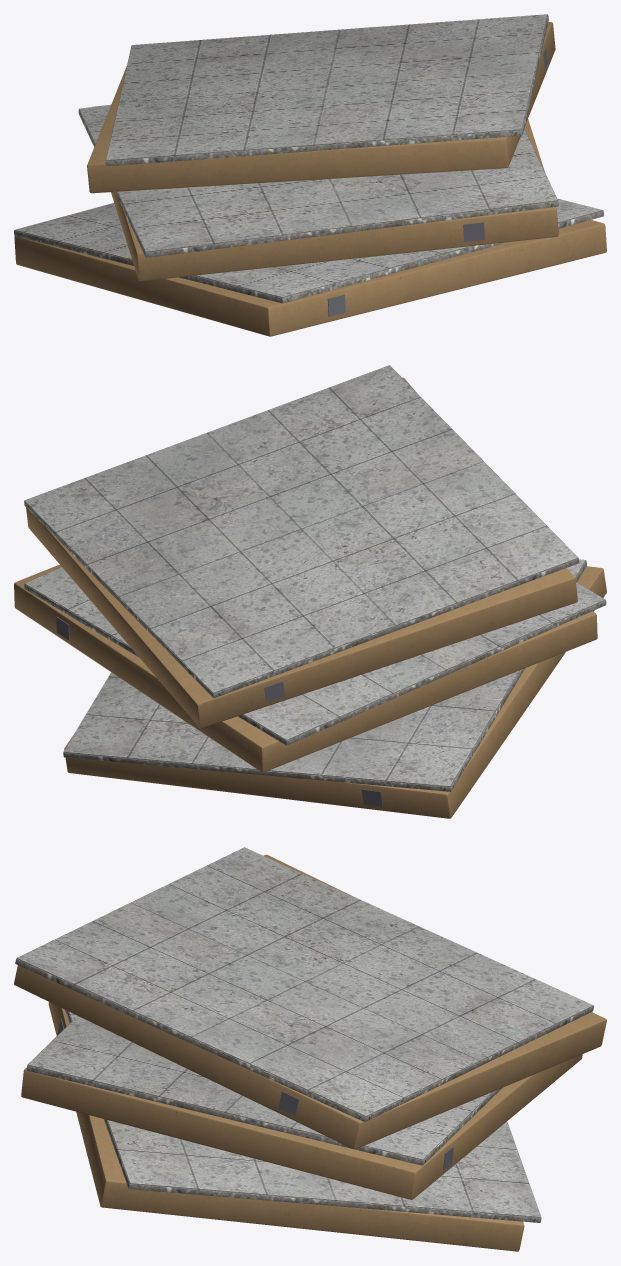
The model's file is PIS-CER-003_anim.glb.
3 renders of one model, top to bottom at view 1: azimuth 30°, elevation 25°; view 2: azimuth 150°, elevation 25°; view 3: azimuth 270°, elevation 25°, orthographic. The views are drawn at different scales.
Visible parts, largest first — view 1: PIS-CER-003_anim2, PIS-CER-003_anim1, PIS-CER-003_anim0; view 2: PIS-CER-003_anim2, PIS-CER-003_anim0, PIS-CER-003_anim1; view 3: PIS-CER-003_anim2, PIS-CER-003_anim0, PIS-CER-003_anim1.
Boxes of the visible parts, left/top/right/bottom form: PIS-CER-003_anim2: left=87, top=14, right=555, bottom=193; PIS-CER-003_anim1: left=78, top=104, right=558, bottom=281; PIS-CER-003_anim0: left=14, top=198, right=606, bottom=336; PIS-CER-003_anim2: left=24, top=365, right=579, bottom=728; PIS-CER-003_anim0: left=63, top=559, right=606, bottom=818; PIS-CER-003_anim1: left=14, top=564, right=606, bottom=772; PIS-CER-003_anim2: left=14, top=847, right=606, bottom=1149; PIS-CER-003_anim0: left=48, top=1002, right=541, bottom=1251; PIS-CER-003_anim1: left=21, top=1016, right=582, bottom=1199.
Bounding box in the file's own units: 0.8439 × 0.3968 × 0.8361.
6 materials, 4 textured.
